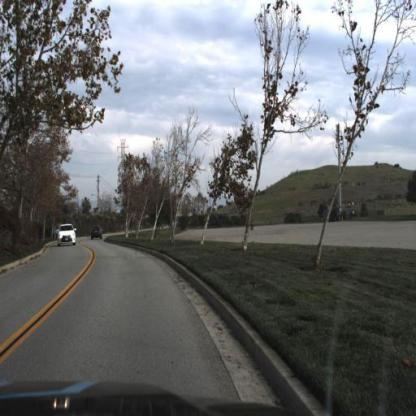car: (56, 224, 78, 247), (89, 223, 106, 242)
